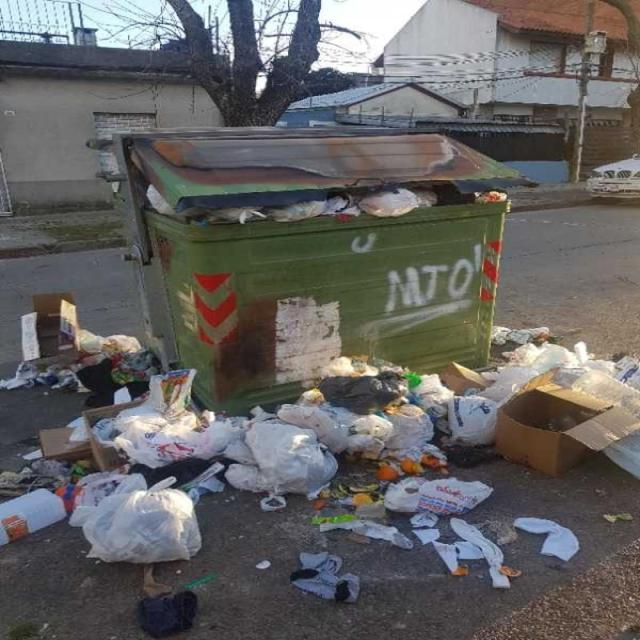garbage: (111, 396, 620, 632), (198, 410, 554, 610), (3, 429, 202, 639), (325, 360, 639, 478), (11, 284, 130, 438), (123, 184, 478, 227), (494, 321, 608, 405)
